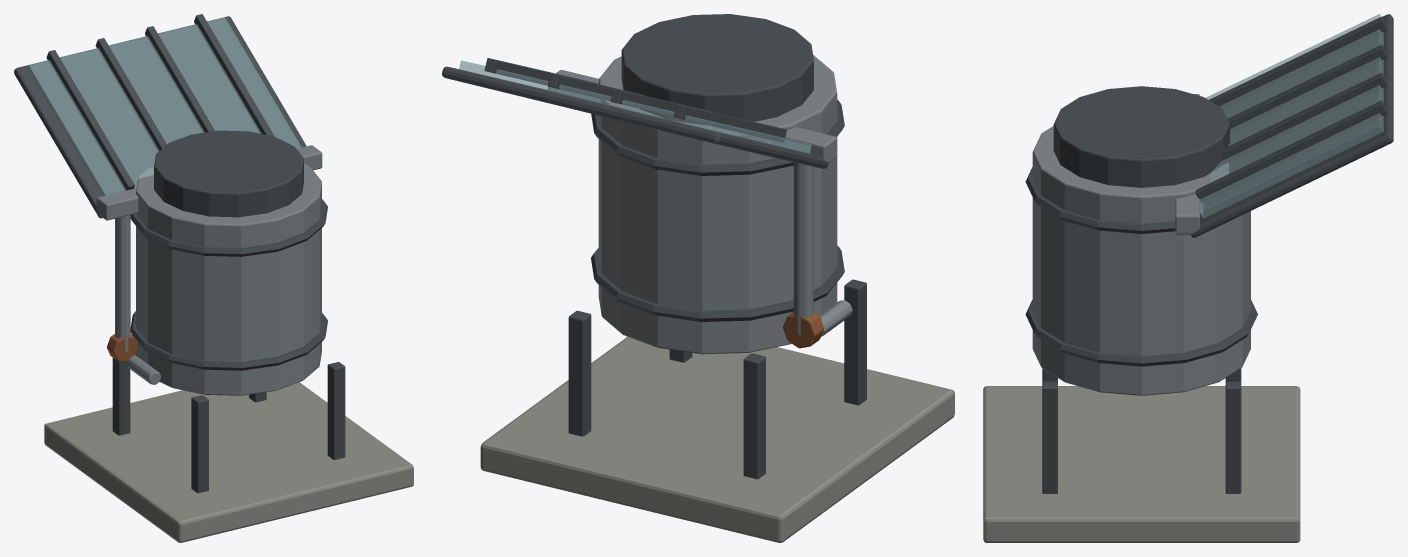
File: water_collector.glb
The picture shows the model from 3 angles, left to right: view 1: azimuth 30°, elevation 25°; view 2: azimuth 150°, elevation 25°; view 3: azimuth 270°, elevation 25°; orthographic projection. The views are drawn at different scales.
Visible parts, largest first — view 1: water_collector; view 2: water_collector; view 3: water_collector.
Boxes of the visible parts, x1,y1,x2,y2 form: water_collector: [14, 14, 413, 542]; water_collector: [442, 14, 954, 542]; water_collector: [983, 14, 1393, 542].
Bounding box in the file's own units: 1.8 × 2.61 × 2.33.
